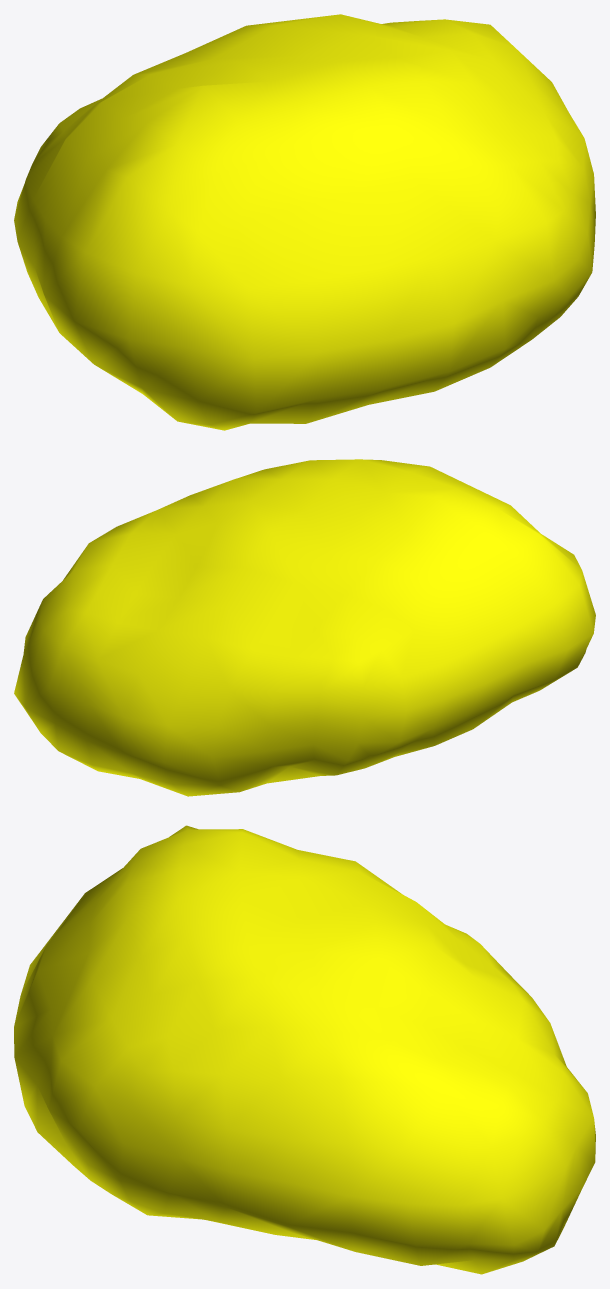
The model's file is Props_Rocks_Rock_3_Rocks3_High.glb.
3 views of the same model, one above another, from view 1: azimuth 30°, elevation 25°; view 2: azimuth 150°, elevation 25°; view 3: azimuth 270°, elevation 25° (orthographic). The views are drawn at different scales.
Visible parts, largest first — view 1: Rock3_High; view 2: Rock3_High; view 3: Rock3_High.
Boxes of the visible parts, x1=… form: Rock3_High: x1=14, y1=14, x2=595, y2=430; Rock3_High: x1=14, y1=459, x2=595, y2=796; Rock3_High: x1=14, y1=825, x2=595, y2=1274.
Size of the model in its own units: 1.24 by 0.6229 by 1.13.
1 material, 1 textured.
